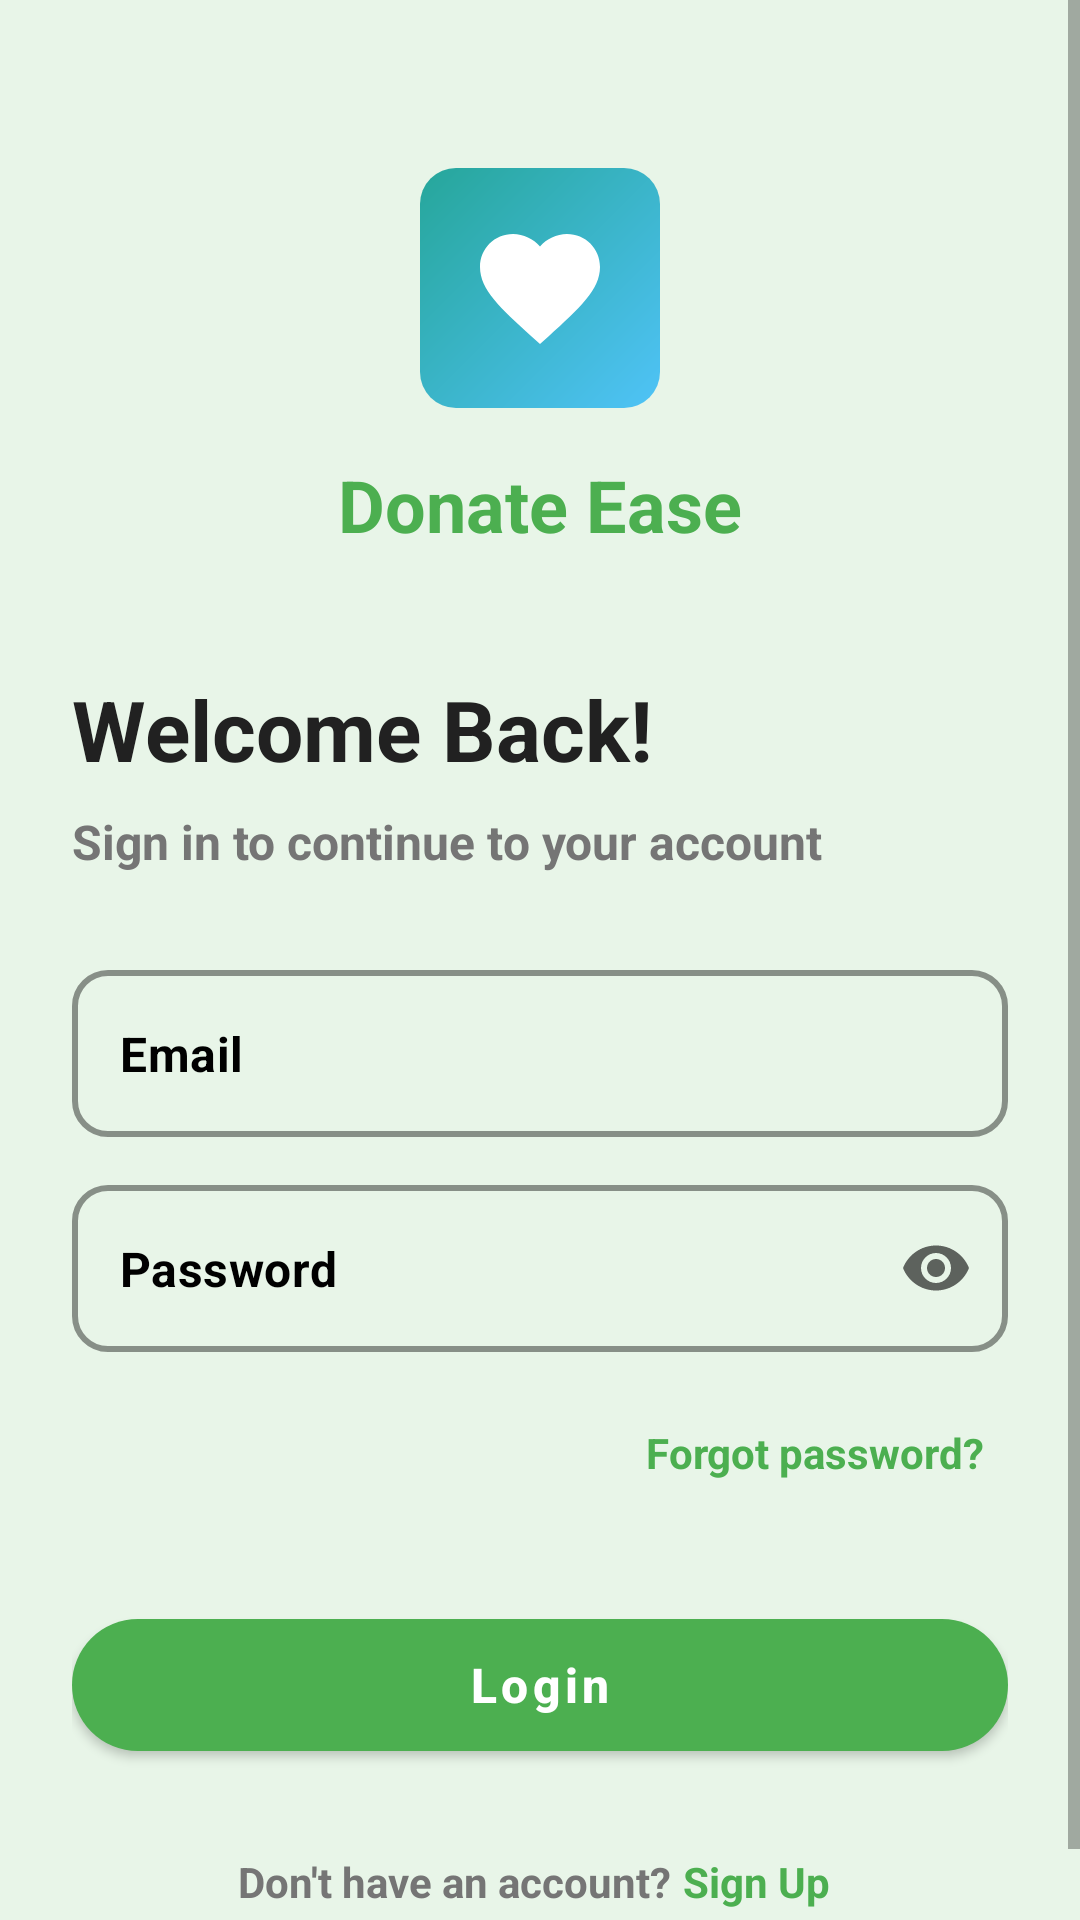

Icons on this 1080×1920 Android screen, each with its box as (x1, y1, x2, y2):
donate heart: (420, 168, 660, 408)
